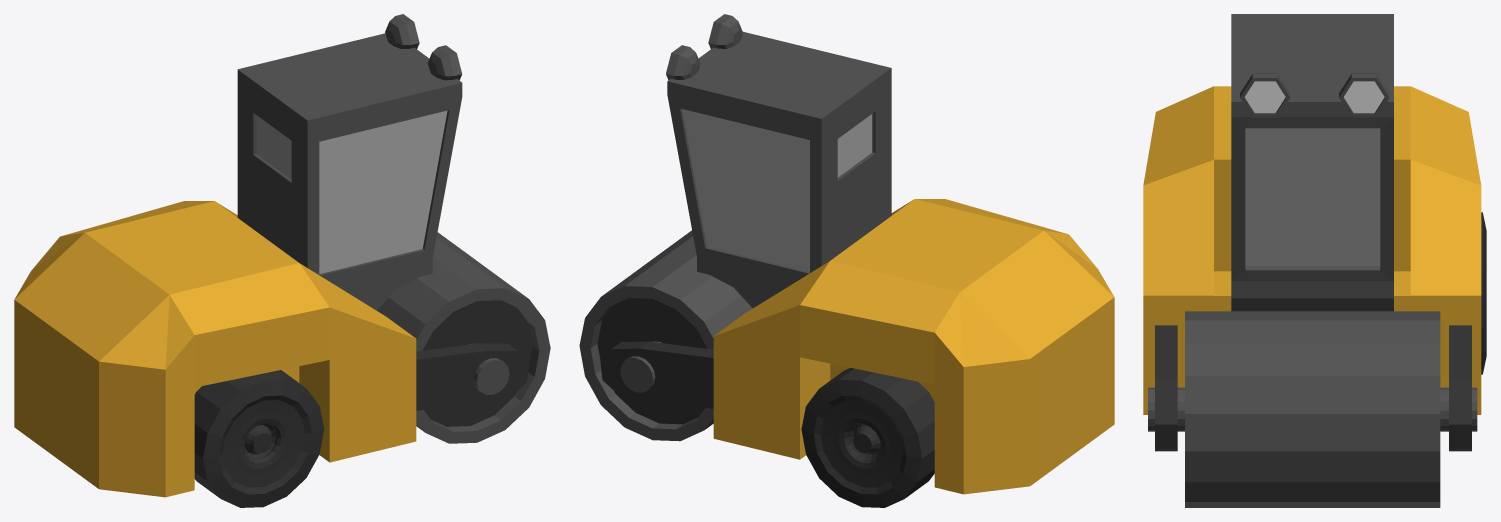
3 views of the same model, side by side, from view 1: azimuth 30°, elevation 25°; view 2: azimuth 150°, elevation 25°; view 3: azimuth 270°, elevation 25° (orthographic). The views are drawn at different scales.
Parts seen in each view (by area): view 1: C-4, Cylinder.006, Cylinder.007, Cube.005; view 2: C-4, Cylinder.006, Cylinder.008, Cube.006; view 3: C-4, Cylinder.006, Cube.005, Cube.006, Cylinder.008.
Part boxes in pixels (bbox=[...]): C-4: bbox=[14, 14, 462, 497]; Cylinder.006: bbox=[377, 232, 550, 443]; Cylinder.007: bbox=[194, 370, 323, 507]; Cube.005: bbox=[416, 343, 529, 410]; C-4: bbox=[666, 14, 1114, 494]; Cylinder.006: bbox=[579, 230, 752, 441]; Cylinder.008: bbox=[801, 367, 934, 507]; Cube.006: bbox=[600, 341, 713, 408]; C-4: bbox=[1143, 14, 1481, 414]; Cylinder.006: bbox=[1148, 311, 1477, 507]; Cube.005: bbox=[1155, 325, 1177, 451]; Cube.006: bbox=[1449, 325, 1471, 451]; Cylinder.008: bbox=[1481, 212, 1486, 374].
Size of the model in its own units: 1226 by 977 by 715.
